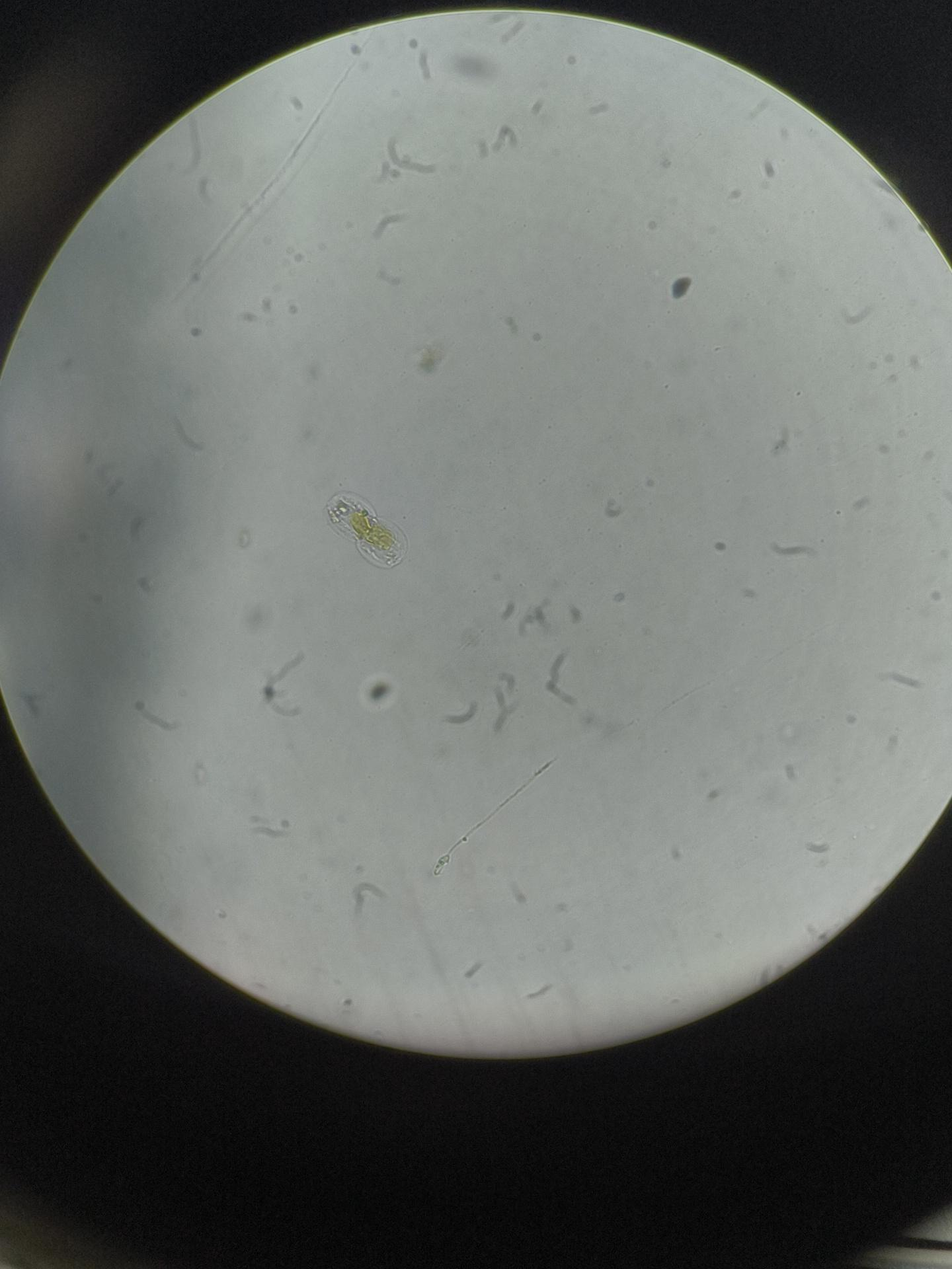Euglena: (326, 484, 411, 574)
